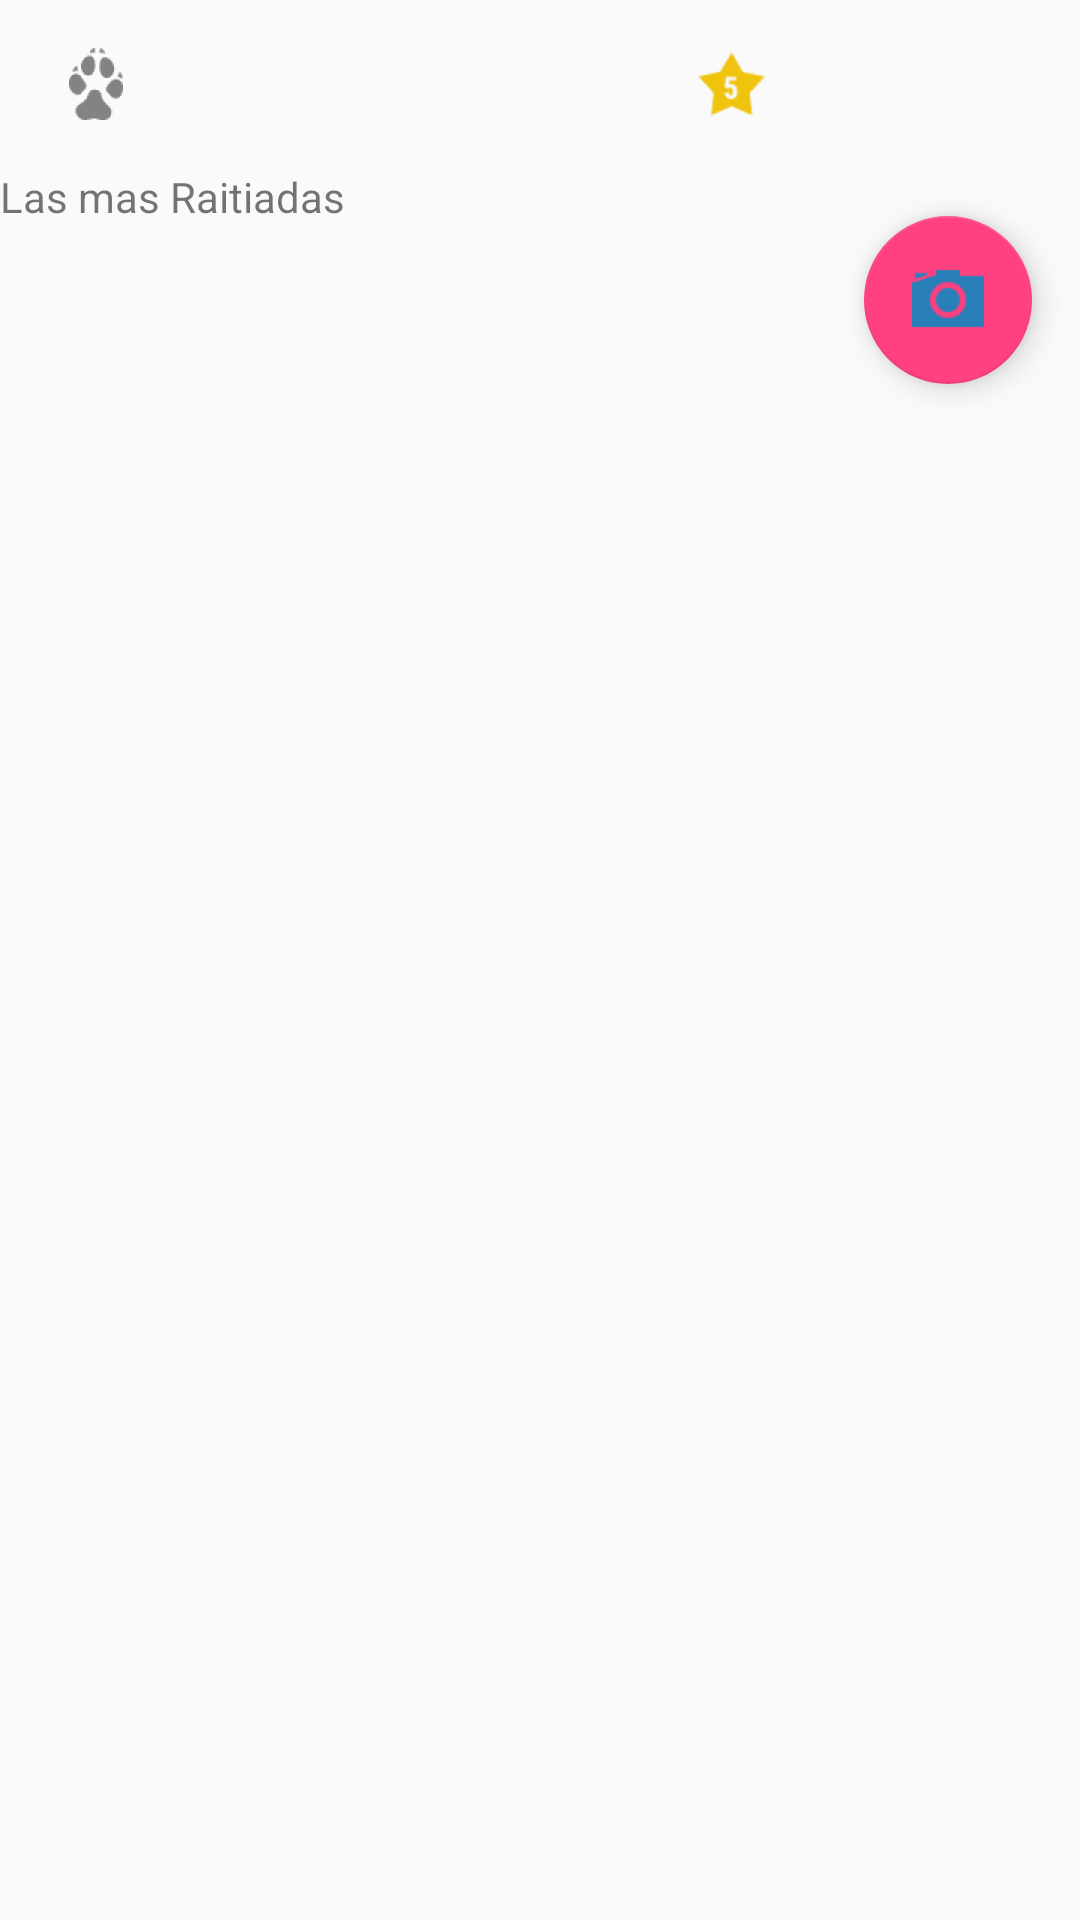

Where to tap for icons on this 1080 × 1920 app screen, as point (x, y):
camera: point (948, 300)
starfive: point (732, 84)
